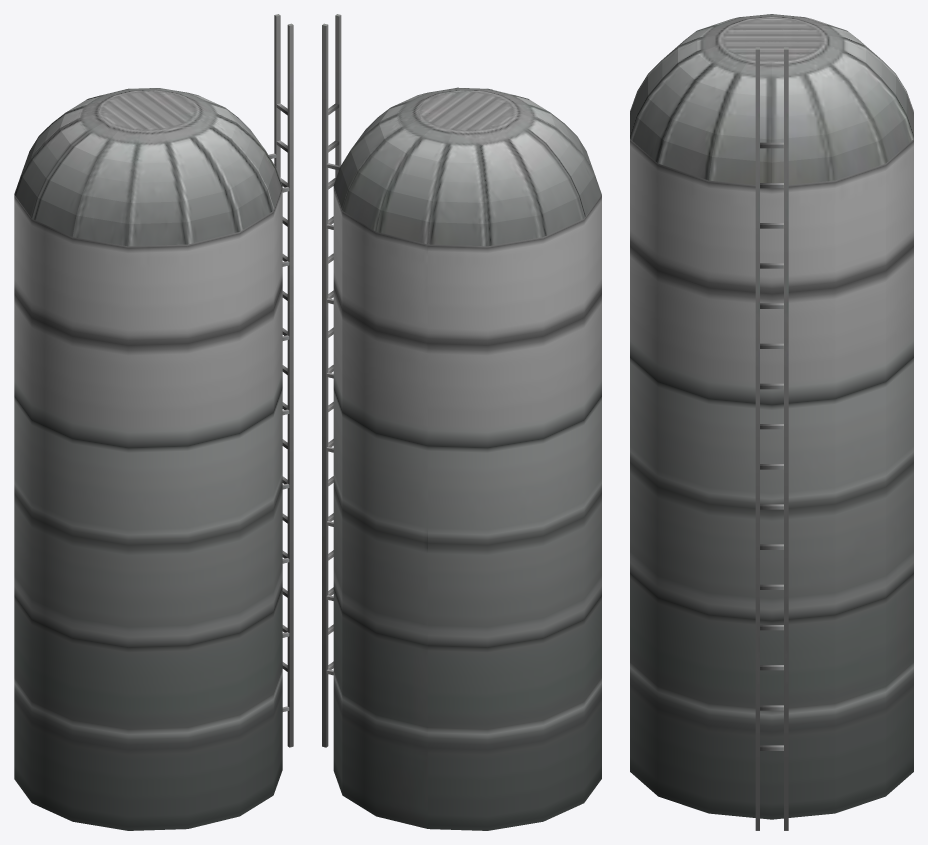
File: industrial_silos_01.glb
The picture shows the model from 3 angles, left to right: view 1: azimuth 30°, elevation 25°; view 2: azimuth 150°, elevation 25°; view 3: azimuth 270°, elevation 25°; orthographic projection. The views are drawn at different scales.
Parts seen in each view (by area): view 1: ind:silos_01; view 2: ind:silos_01; view 3: ind:silos_01.
Part boxes in pixels (bbox=[...]): ind:silos_01: bbox=[14, 14, 293, 830]; ind:silos_01: bbox=[322, 14, 601, 830]; ind:silos_01: bbox=[630, 14, 913, 830].
Size of the model in its own units: 3.59 by 9.72 by 3.2.
1 material, 1 textured.
